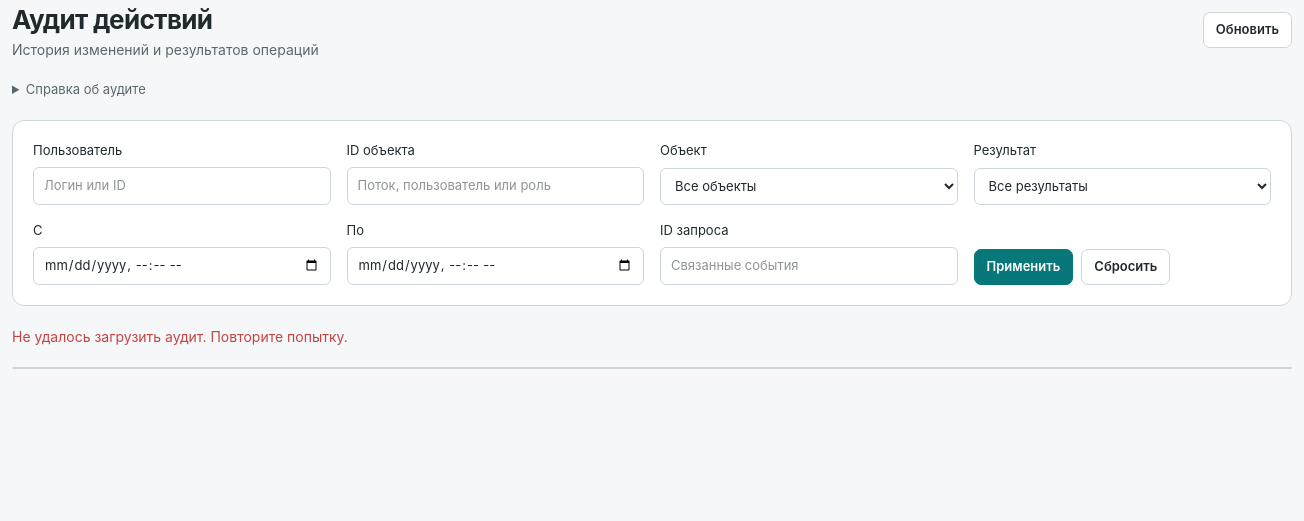
Test: shows a recoverable load failure
Expected: the message "Не удалось загрузить аудит. Повторите попытку." is shown, [12,328,348,344]
Click the button "Обновить". click: (1247, 30)
box: [1203,12,1292,48]
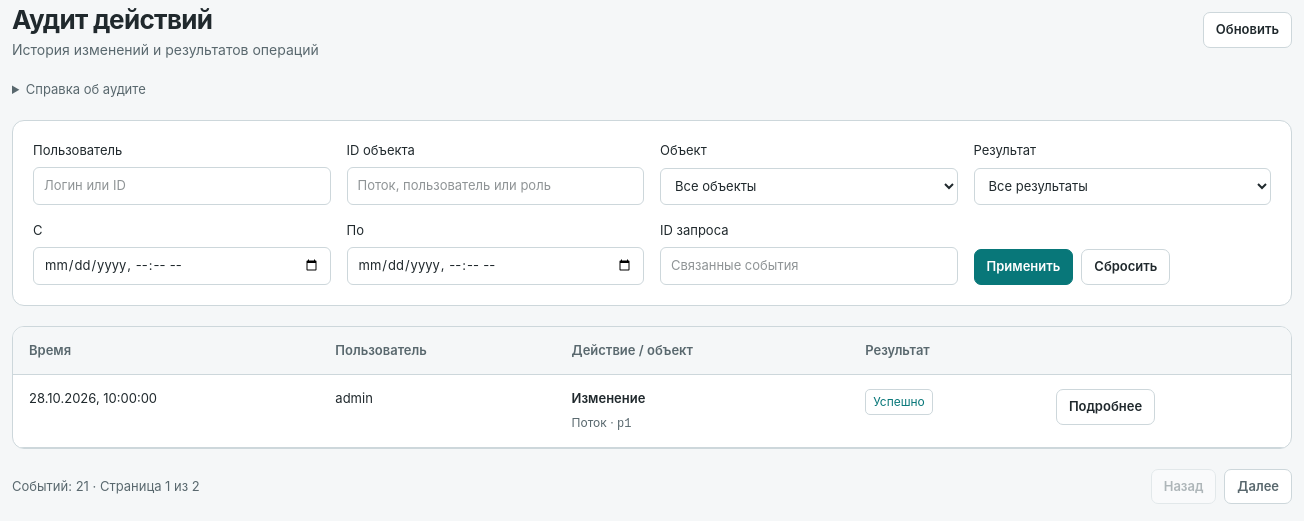
Expected: the text "admin" is shown, [319,375,556,447]
Expected: the message "Не удалось загрузить аудит. Повторите попытку." is gone
